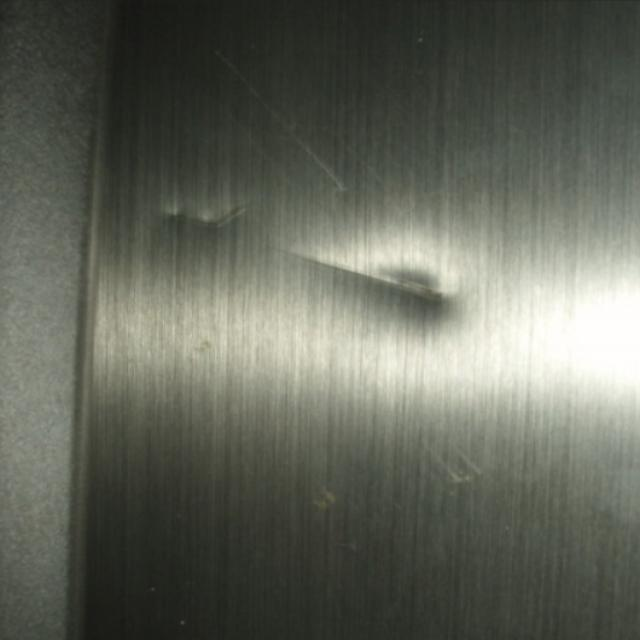dents: (305, 242, 477, 340), (136, 196, 258, 243)
